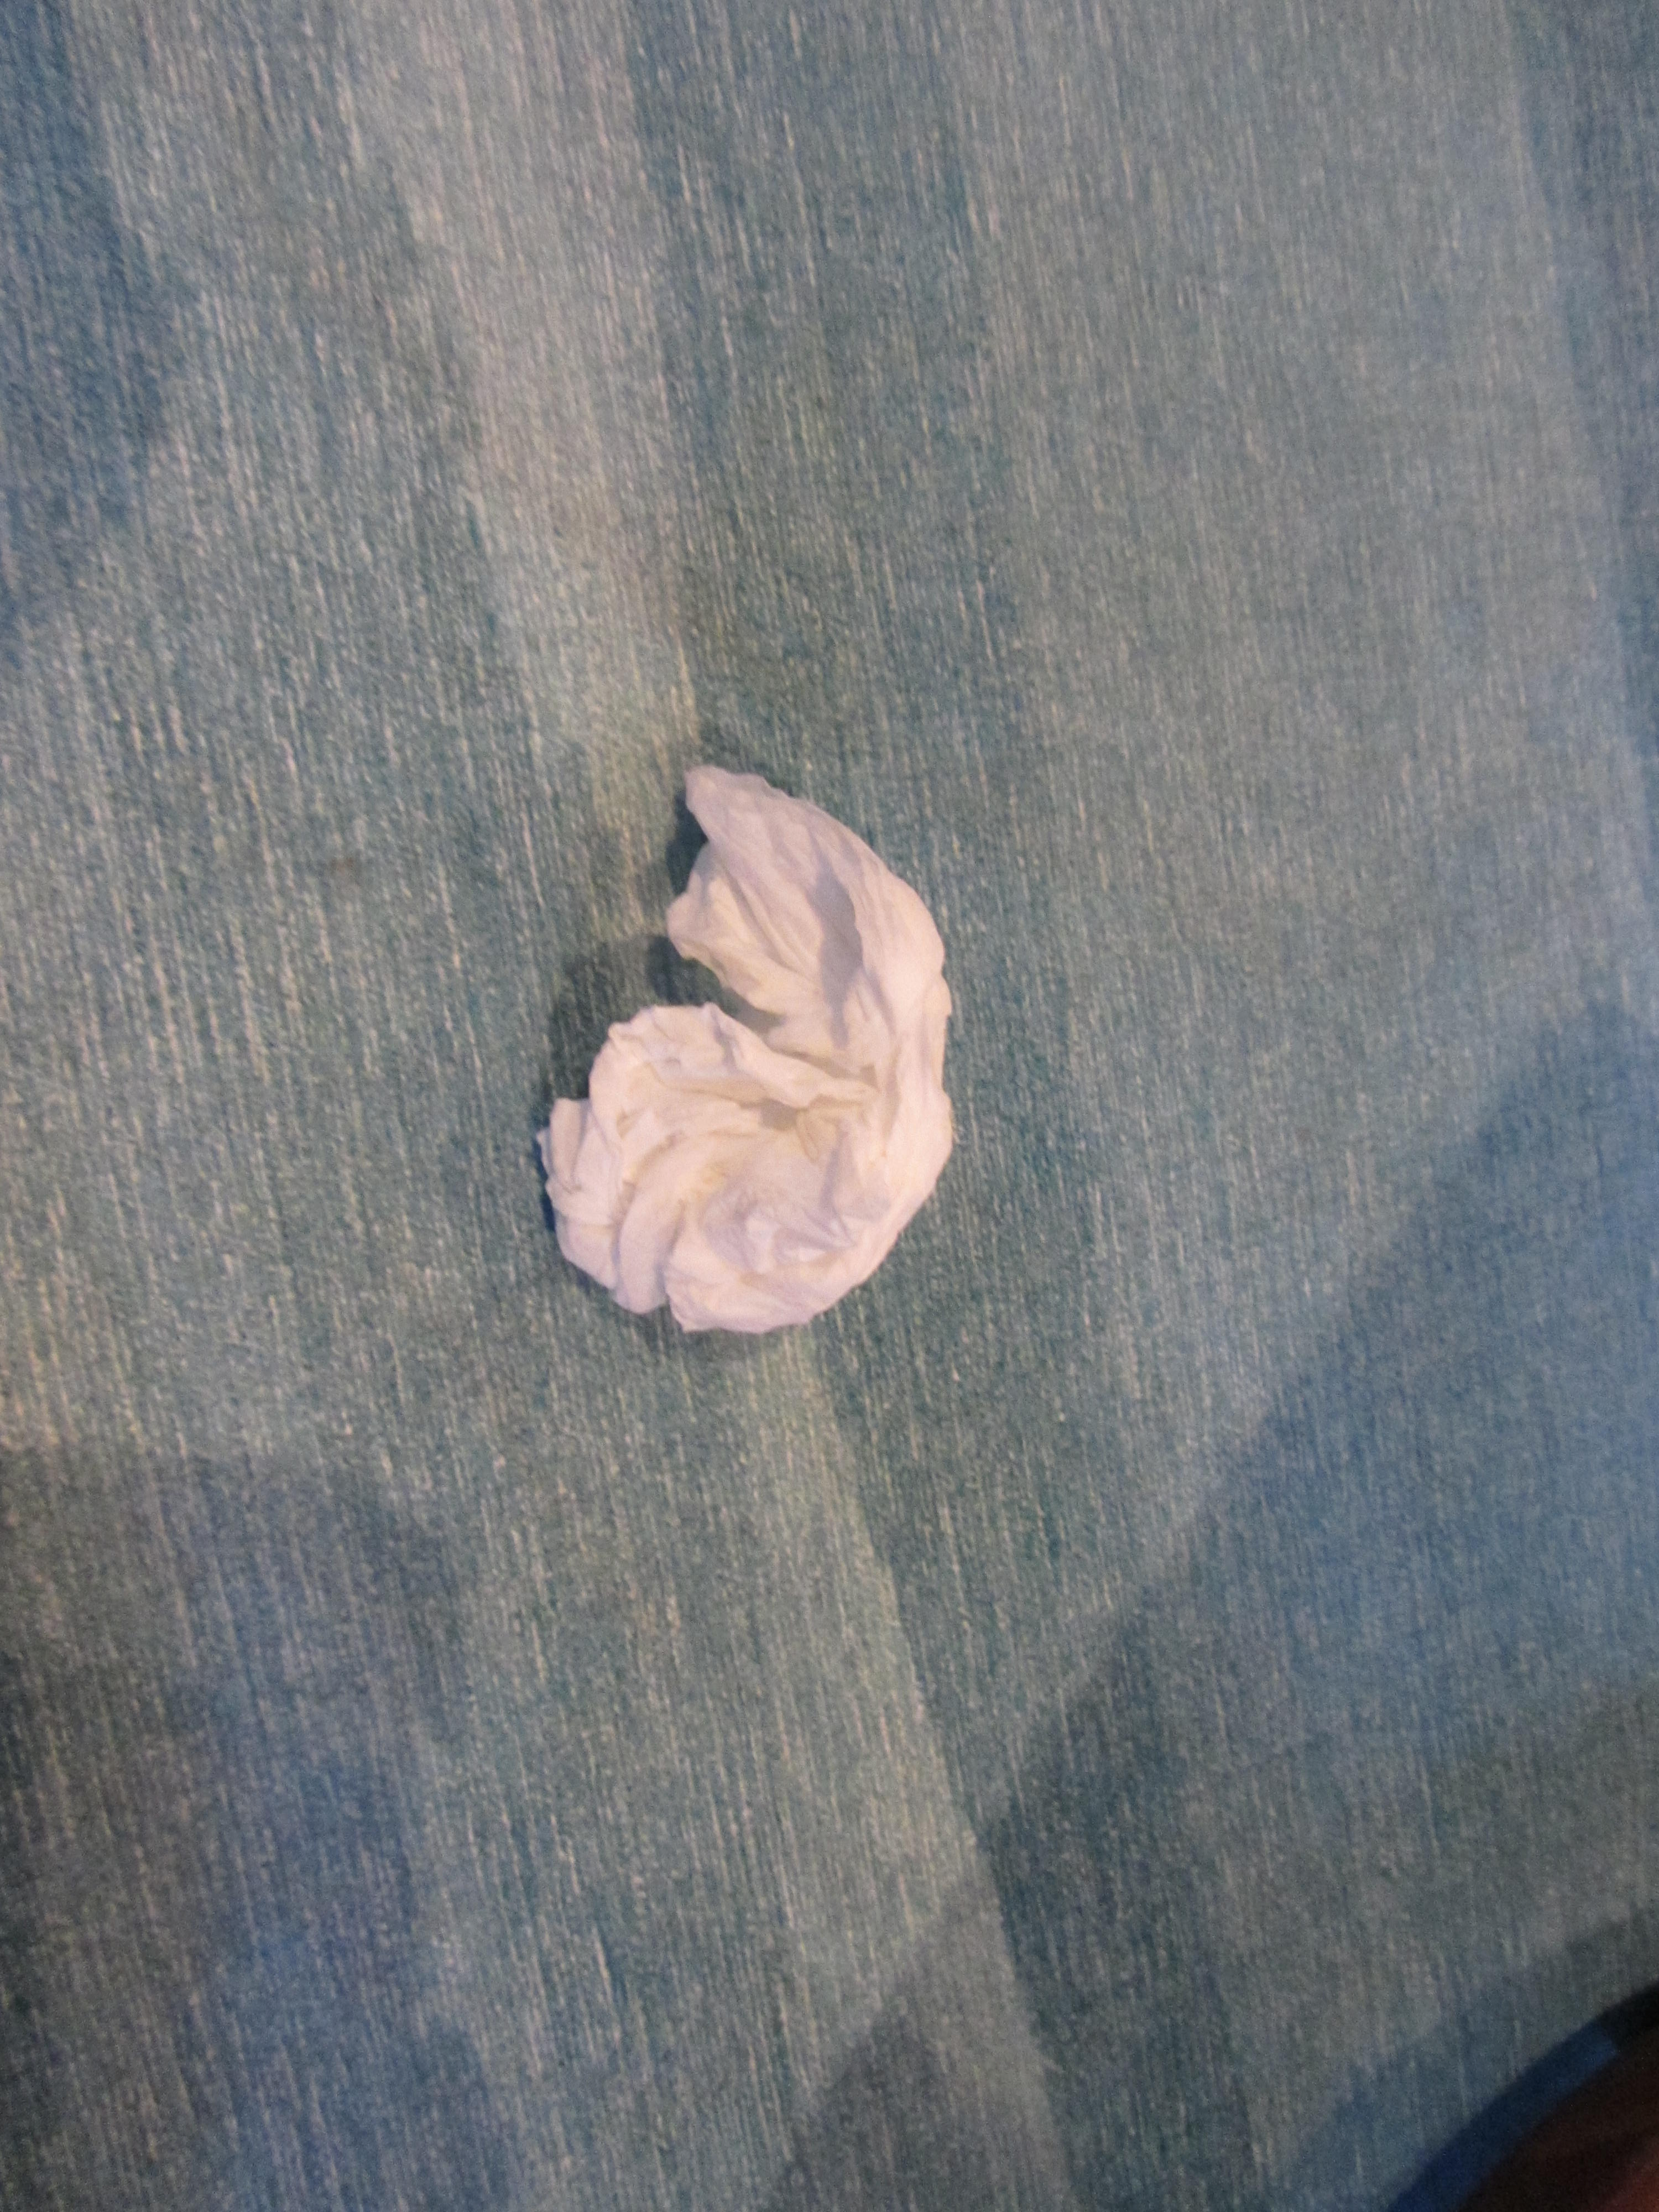tissue: (467, 714, 976, 1362)
